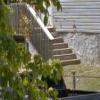stairs: (30, 34, 82, 63)
